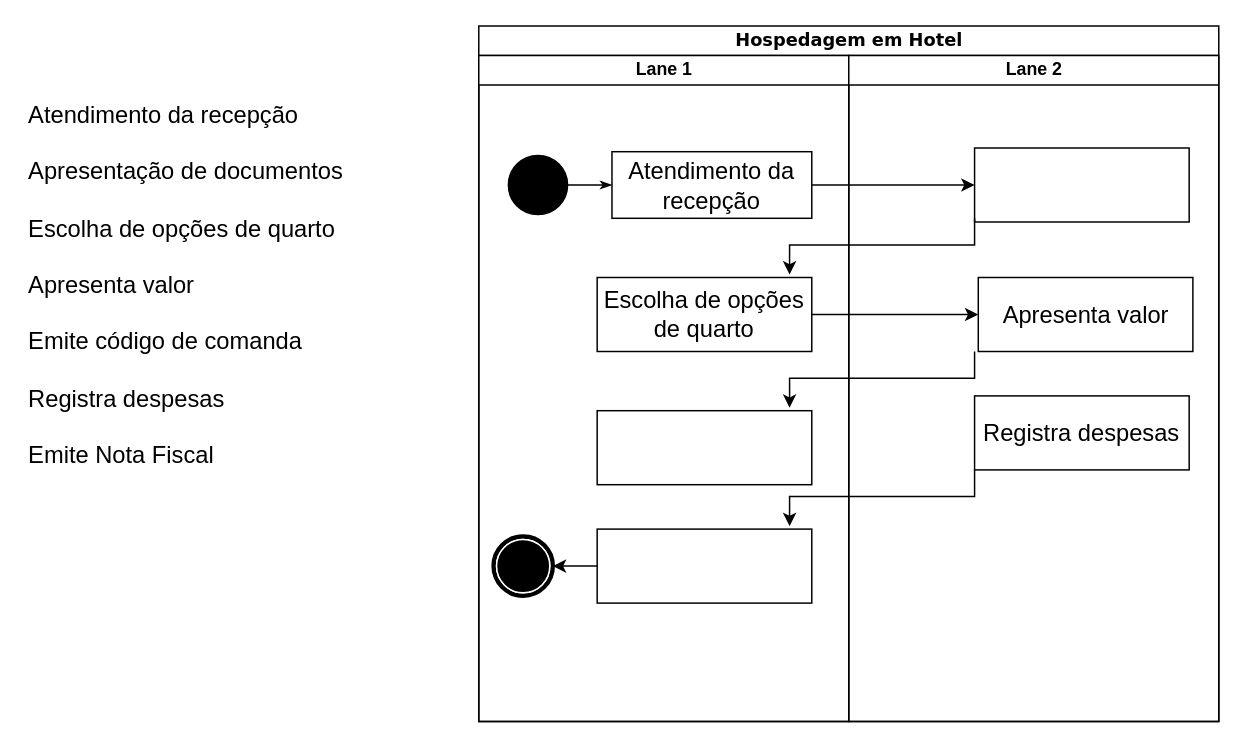
Some shapes in this 1245 by 747 pixel diagram are drawn without their labels. Each missing label, with the centre of its shape:
Apresentação de documentos: point (1081, 184)
Emite código de comanda: point (704, 447)
Emite Nota Fiscal: point (704, 565)
